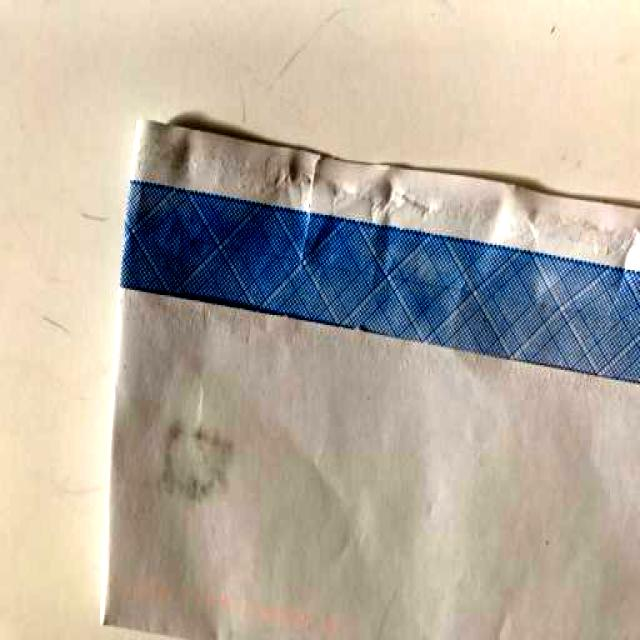Paper: (98, 115, 639, 640)
